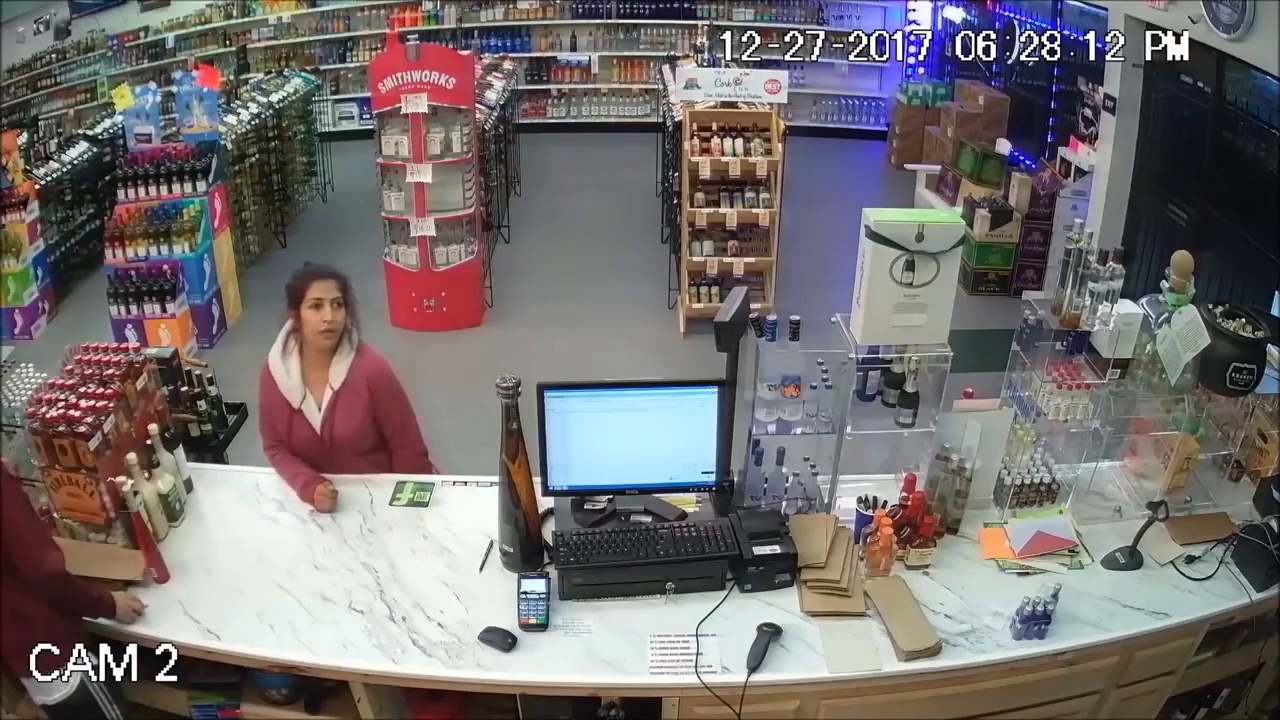face: (293, 287, 348, 352)
